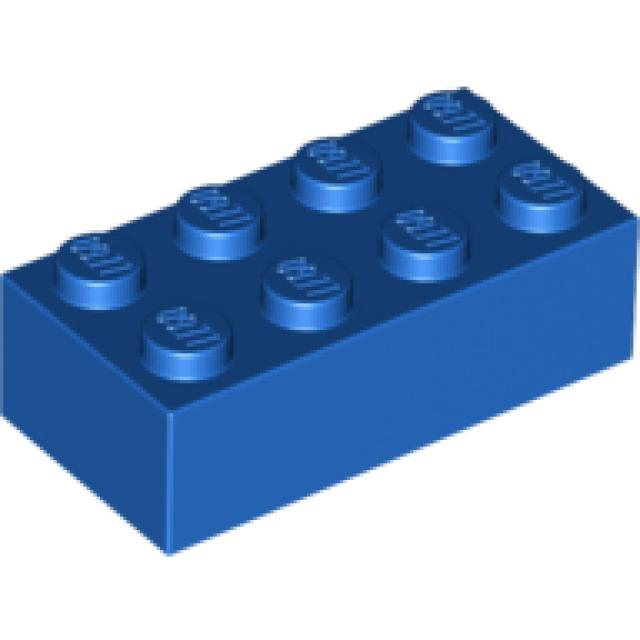Blue_Large: (3, 87, 640, 560)
